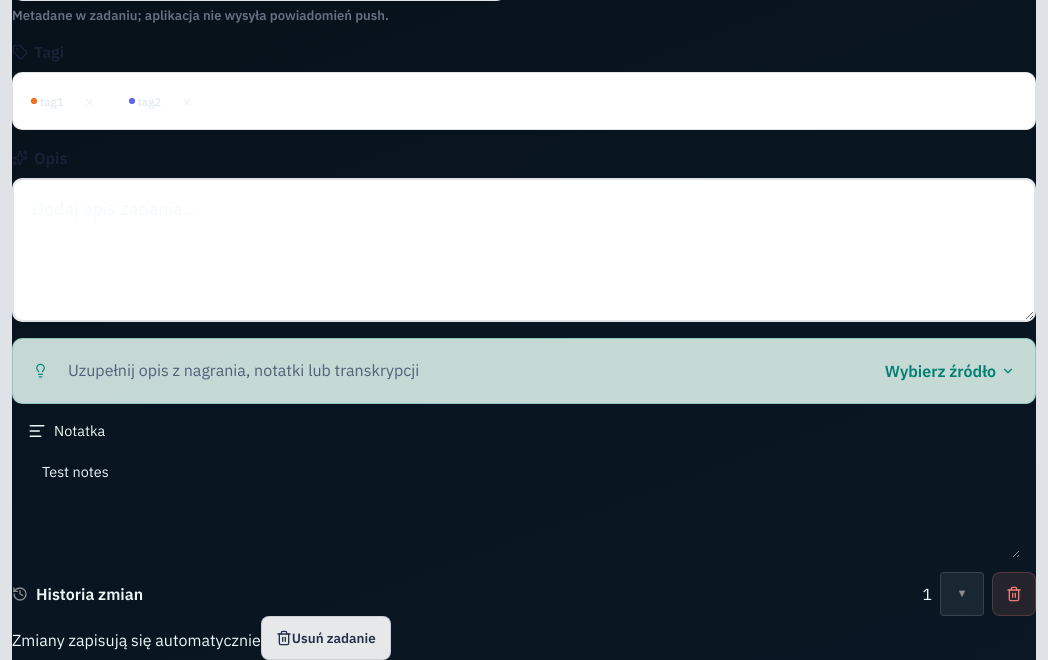
Test: TaskDetailsPanel › renders structured task events before legacy history entries
(page scrolled)
Step 1. Click the button with class "todo-history-toggle" → (962, 594), box x1=940 y1=572 x2=984 y2=616
(page scrolled)
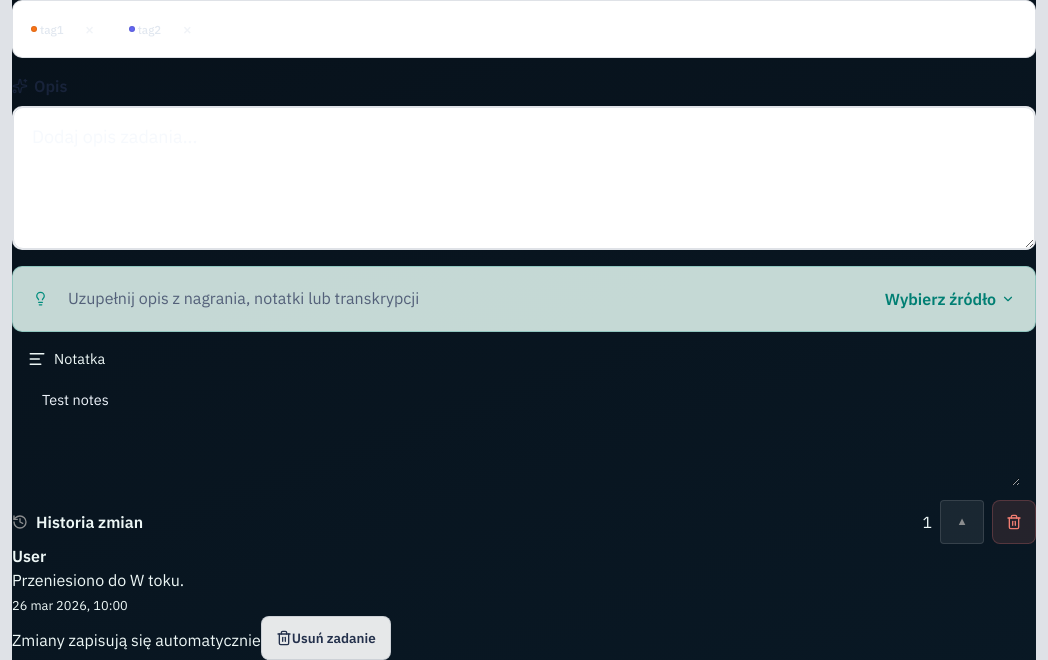
Expected: the text "Przeniesiono do W toku." is shown, x1=12 y1=570 x2=184 y2=590
